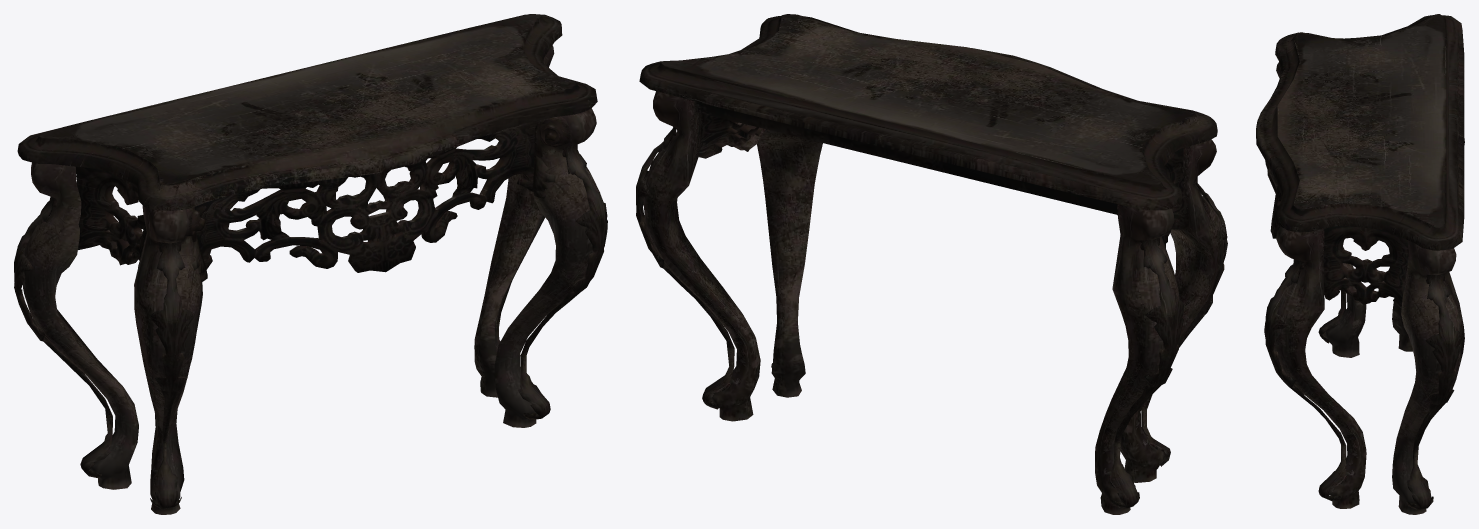
The model's file is console.glb.
3 renders of one model, left to right at view 1: azimuth 30°, elevation 25°; view 2: azimuth 150°, elevation 25°; view 3: azimuth 270°, elevation 25°, orthographic. The views are drawn at different scales.
Parts seen in each view (by area): view 1: ClassicConsole_01; view 2: ClassicConsole_01; view 3: ClassicConsole_01.
Part boxes in pixels (x1,y1,x2,y2): ClassicConsole_01: (14,14,607,514); ClassicConsole_01: (636,14,1227,514); ClassicConsole_01: (1256,14,1464,514).
Bounding box in the file's own units: 1.54 × 0.9491 × 0.5859.
1 material, 1 textured.
